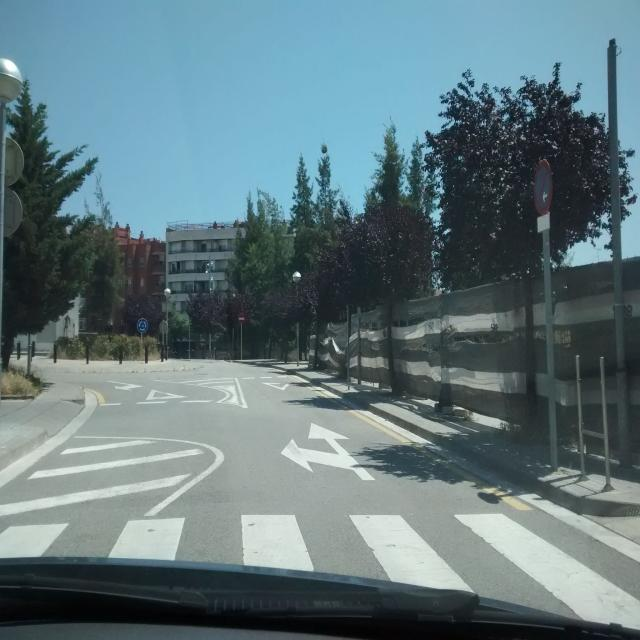forb_stopping: (534, 158, 553, 217)
